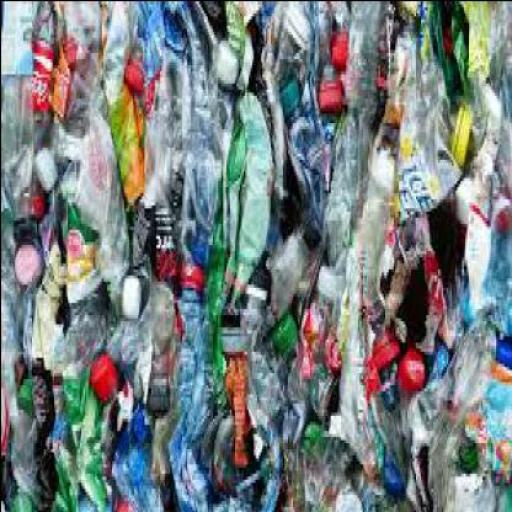plastic: (1, 0, 510, 510), (340, 137, 406, 494), (158, 1, 224, 260), (51, 97, 126, 293), (166, 256, 214, 510), (395, 1, 471, 161), (218, 85, 268, 301), (1, 2, 49, 220), (104, 268, 178, 406), (60, 341, 120, 509), (358, 305, 411, 494), (141, 46, 186, 268), (376, 216, 450, 348), (283, 259, 340, 420), (367, 113, 455, 216), (244, 1, 286, 202), (210, 393, 280, 509), (4, 402, 75, 508), (321, 119, 372, 265), (107, 396, 164, 509), (450, 171, 495, 314), (449, 55, 500, 170), (287, 414, 346, 509), (482, 1, 511, 192), (49, 0, 101, 101), (104, 80, 147, 202), (266, 0, 311, 113), (340, 0, 384, 113), (447, 314, 492, 421), (483, 332, 510, 509), (165, 402, 210, 508), (406, 384, 446, 502), (432, 420, 485, 509), (286, 113, 328, 219), (239, 305, 282, 408), (481, 192, 511, 330), (210, 1, 258, 86), (129, 1, 185, 70), (10, 235, 43, 350), (266, 222, 308, 311), (441, 2, 486, 82), (308, 2, 342, 104), (218, 351, 246, 466), (1, 203, 14, 448), (430, 262, 466, 348), (96, 1, 132, 86), (416, 317, 450, 396), (12, 372, 45, 446), (25, 36, 51, 110), (11, 238, 46, 286), (85, 347, 119, 396), (49, 33, 69, 116), (448, 100, 470, 174), (325, 1, 348, 70), (150, 210, 176, 271), (210, 37, 237, 89), (392, 338, 422, 384), (238, 259, 270, 299), (270, 308, 296, 357), (118, 43, 148, 85), (377, 442, 401, 493), (118, 266, 140, 320), (314, 64, 341, 106), (175, 256, 205, 293), (318, 330, 344, 372), (367, 320, 396, 357), (213, 317, 242, 354), (322, 21, 348, 61), (314, 262, 340, 299), (331, 478, 361, 509), (270, 73, 299, 104), (55, 36, 82, 67), (455, 427, 475, 467), (491, 332, 511, 370), (20, 186, 42, 216), (491, 192, 511, 223), (298, 412, 320, 438), (190, 229, 204, 268), (0, 387, 7, 453)
